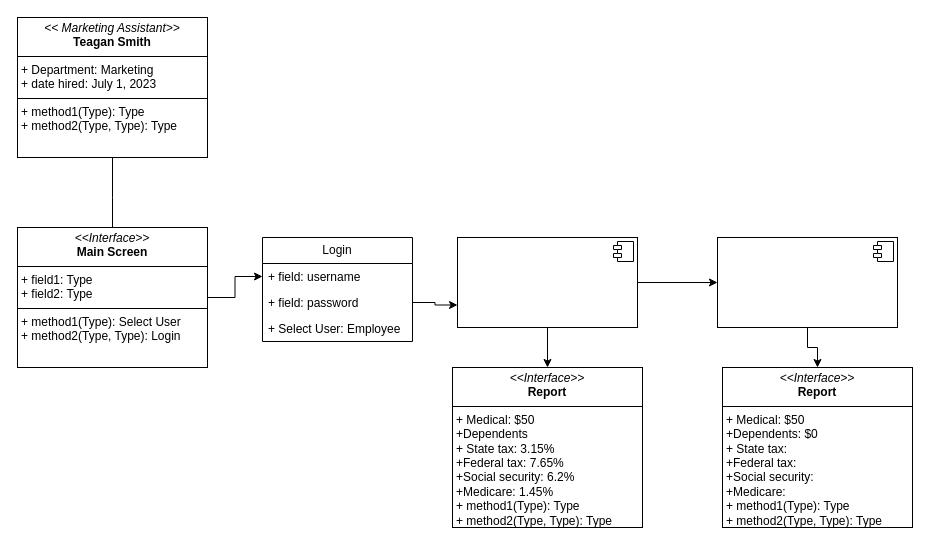
This 930x545 diagram has some shape labels left out. The shapes that lost their labels are listed below. From the top down, each one's centre as x and y in pixels, then its label:
At pixel 547 282: "Component + Pay type: Hourly + Enter hours worked: +submit payroll".
At pixel 807 282: "Component + Pay type: Hourly + Enter hours worked: 8 +submit payroll".
